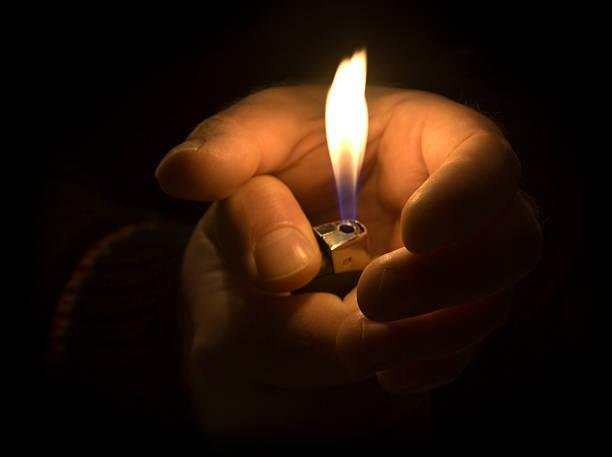Fire: (324, 47, 373, 227)
